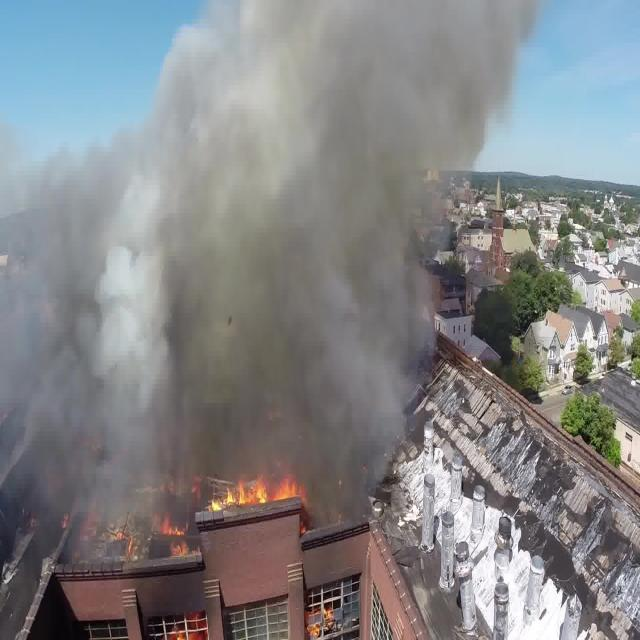Fire: (67, 476, 319, 560), (164, 612, 212, 640), (306, 604, 338, 636)
Smoke: (0, 0, 536, 537)
